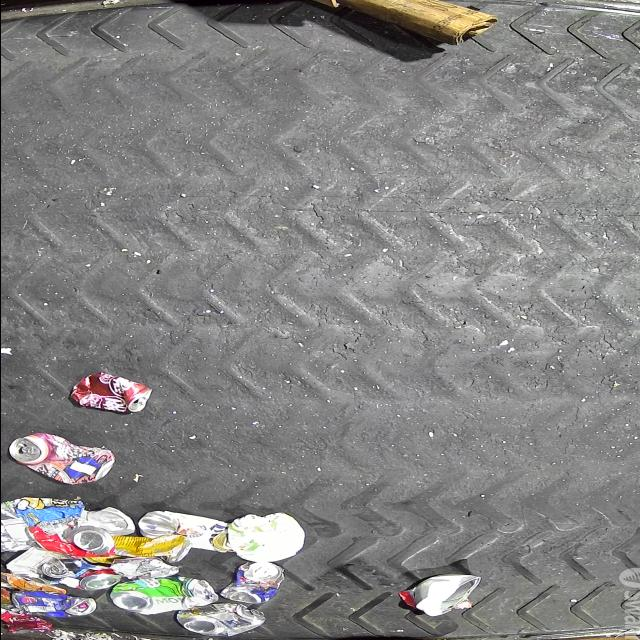can: (6, 432, 114, 485), (108, 576, 218, 616), (136, 510, 233, 552), (25, 516, 114, 558), (67, 372, 151, 414), (174, 603, 264, 637), (82, 535, 191, 563), (218, 562, 284, 604), (10, 591, 95, 618), (58, 562, 120, 590), (0, 603, 52, 634), (80, 507, 134, 536), (1, 502, 30, 552), (38, 558, 78, 582)
